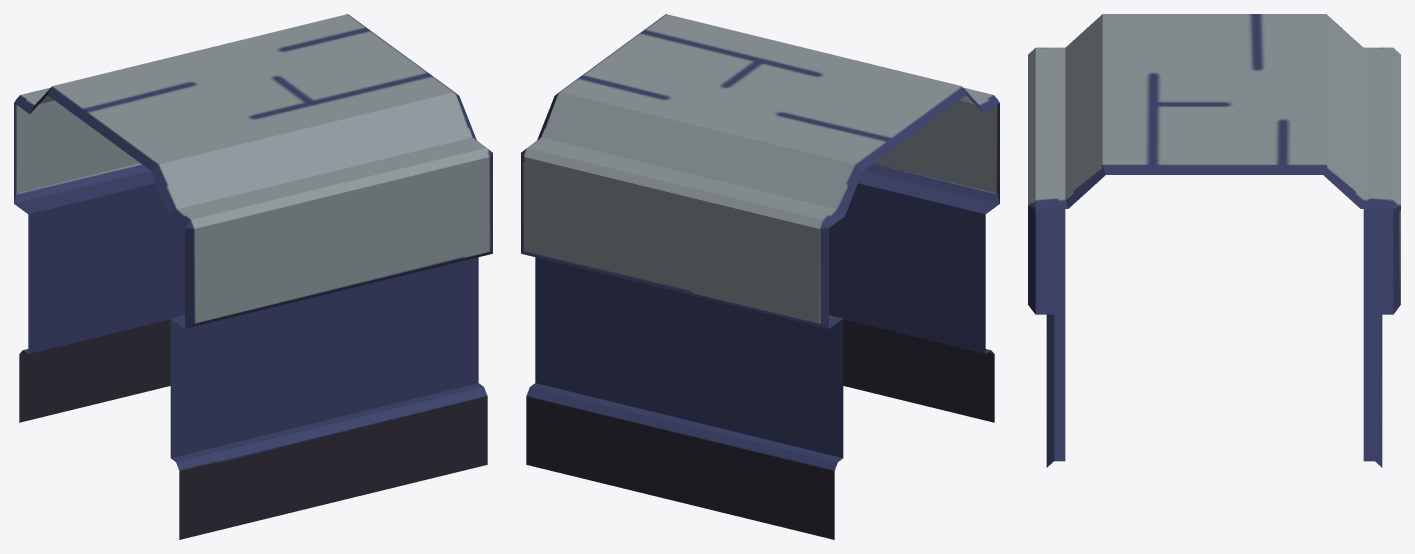
The model's file is Wall_2.FBX.
3 renders of one model, left to right at view 1: azimuth 30°, elevation 25°; view 2: azimuth 150°, elevation 25°; view 3: azimuth 270°, elevation 25°, orthographic. The views are drawn at different scales.
Visible parts, largest first — view 1: Wall_2; view 2: Wall_2; view 3: Wall_2.
Boxes of the visible parts, x1=… form: Wall_2: x1=14, y1=14, x2=492, y2=539; Wall_2: x1=521, y1=14, x2=999, y2=539; Wall_2: x1=1028, y1=14, x2=1400, y2=467.
Bounding box in the file's own units: 100 × 110 × 100.
